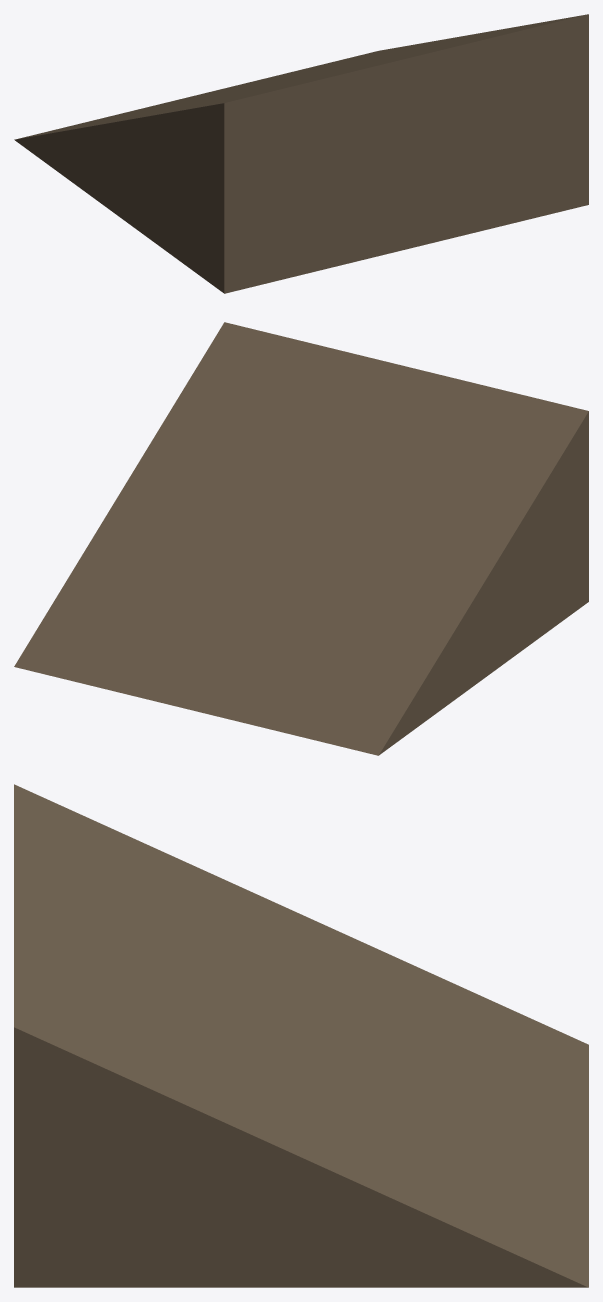
The model's file is terrain-soil-slope.lod0.glb.
3 views of the same model, one above another, from view 1: azimuth 30°, elevation 25°; view 2: azimuth 150°, elevation 25°; view 3: azimuth 270°, elevation 25° (orthographic). The views are drawn at different scales.
Visible parts, largest first — view 1: terrain-soil-slope__body; view 2: terrain-soil-slope__body; view 3: terrain-soil-slope__body.
Part boxes in pixels (left/top/right/bottom): terrain-soil-slope__body: left=14, top=14, right=588, bottom=293; terrain-soil-slope__body: left=14, top=322, right=588, bottom=755; terrain-soil-slope__body: left=14, top=784, right=588, bottom=1287.
Size of the model in its own units: 2 by 1.03 by 2.
